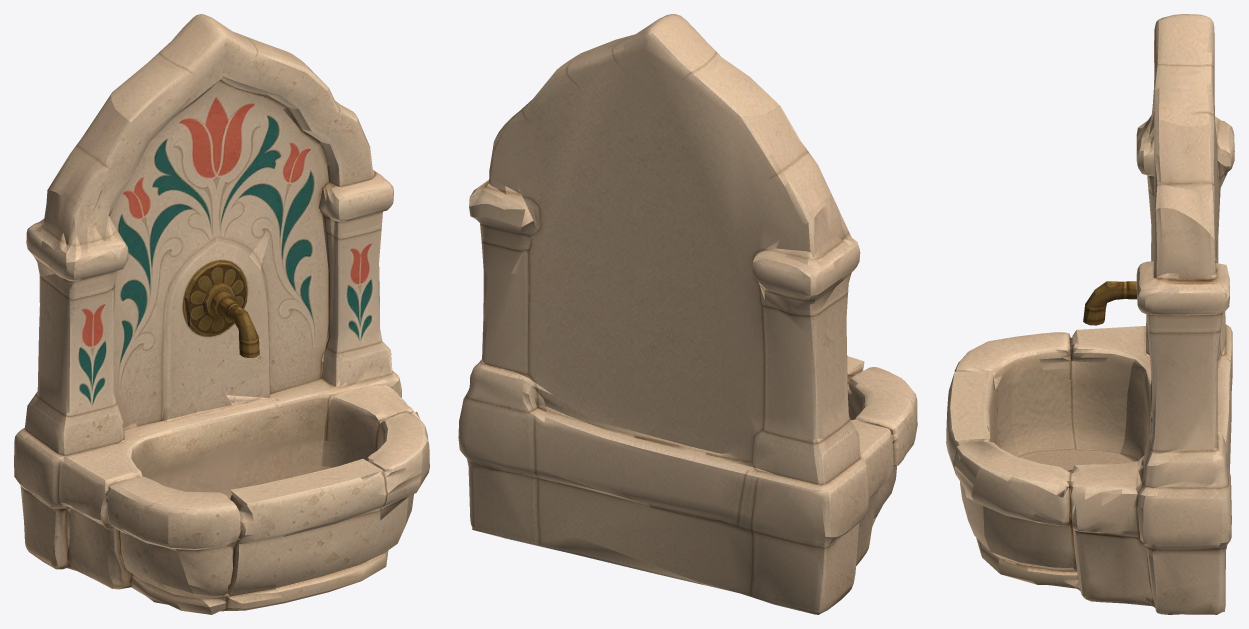
The model's file is tas-cesme.glb.
The picture shows the model from 3 angles, left to right: view 1: azimuth 30°, elevation 25°; view 2: azimuth 150°, elevation 25°; view 3: azimuth 270°, elevation 25°; orthographic projection. The views are drawn at different scales.
Visible parts, largest first — view 1: Mesh0; view 2: Mesh0; view 3: Mesh0.
Part boxes in pixels (x1,y1,x2,y2): Mesh0: (14,14,429,614); Mesh0: (458,14,917,614); Mesh0: (946,14,1234,614).
Size of the model in its own units: 1.38 by 1.9 by 0.9572.
1 material, 1 textured.
